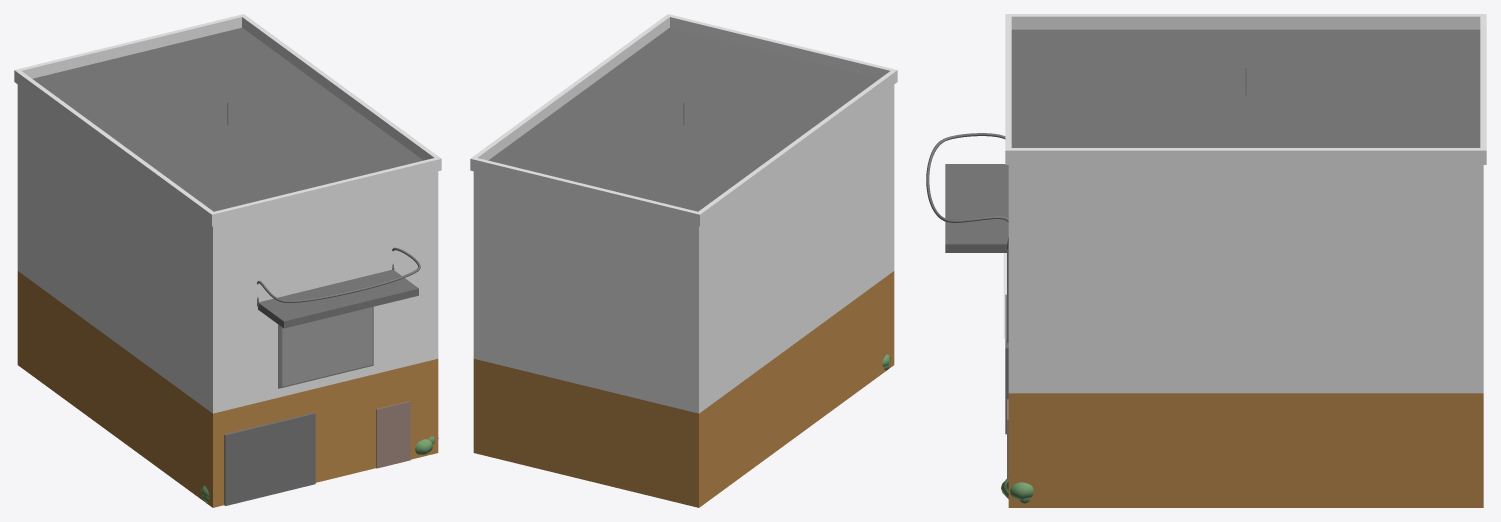
File: townhouse.gltf
The picture shows the model from 3 angles, left to right: view 1: azimuth 30°, elevation 25°; view 2: azimuth 150°, elevation 25°; view 3: azimuth 270°, elevation 25°; orthographic projection. The views are drawn at different scales.
Bounding box in the file's own units: 10.35 × 13.16 × 17.7.
